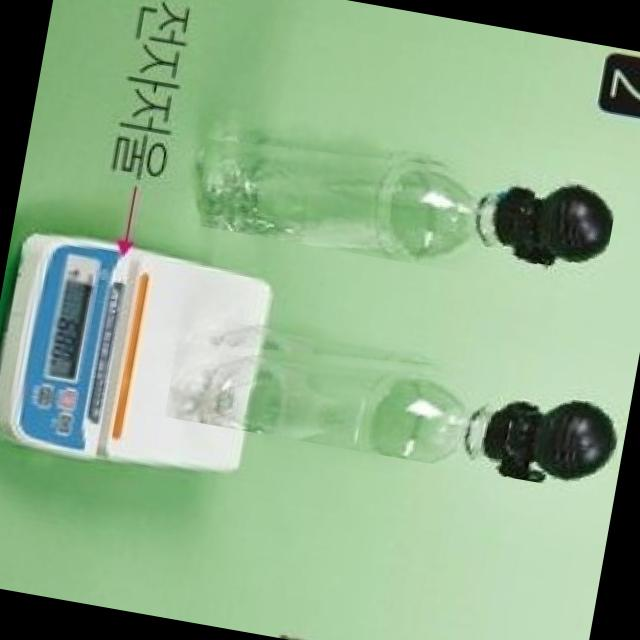plastic bottle: (163, 304, 632, 496), (188, 113, 618, 296)
